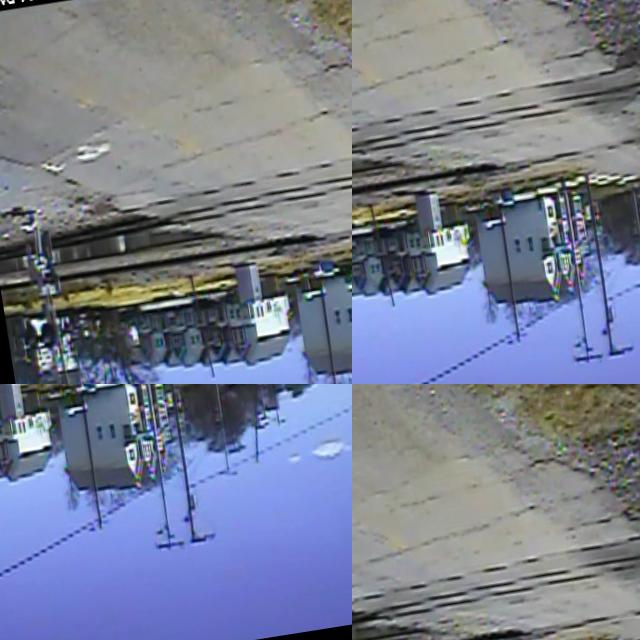barrier: (0, 478, 39, 640), (352, 285, 390, 384), (240, 398, 276, 463)
car: (211, 384, 237, 400)
rails: (0, 128, 352, 277), (352, 32, 640, 199), (0, 173, 352, 304), (352, 98, 640, 245), (352, 498, 640, 640), (0, 384, 352, 467), (0, 384, 352, 462), (352, 558, 640, 640)
traffic-signal: (0, 200, 75, 374), (352, 145, 391, 286), (0, 384, 44, 492), (235, 384, 279, 421)
